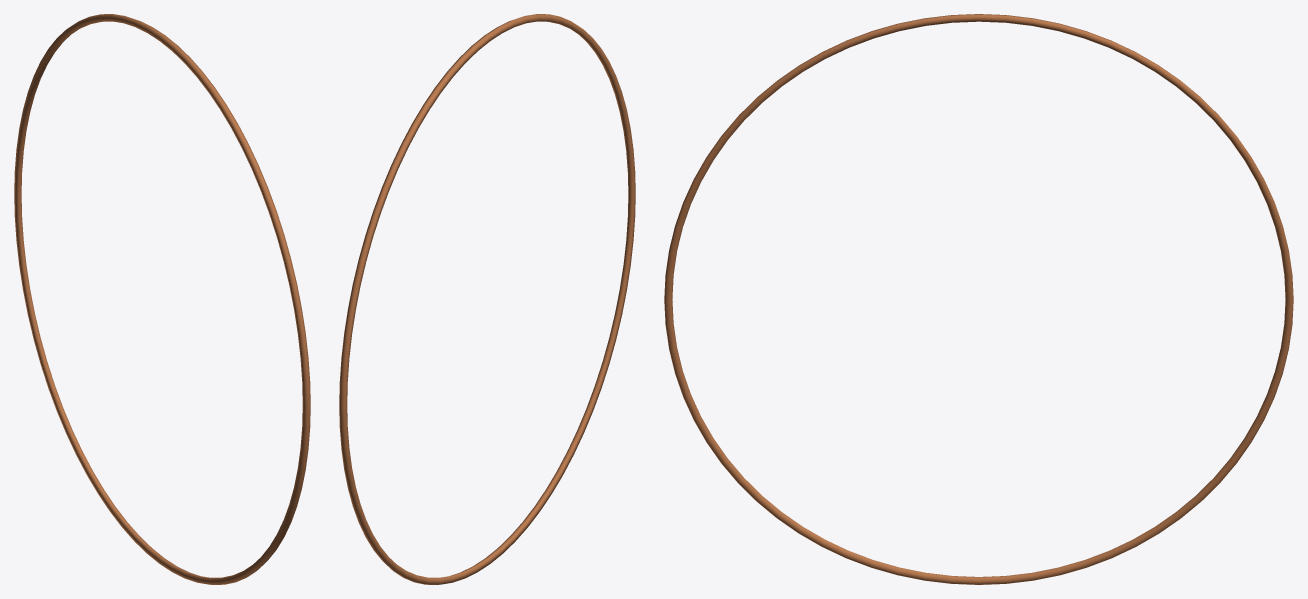
Rendered from rim-copper-right.glb.
3 views of the same model, side by side, from view 1: azimuth 30°, elevation 25°; view 2: azimuth 150°, elevation 25°; view 3: azimuth 270°, elevation 25° (orthographic). The views are drawn at different scales.
Visible parts, largest first — view 1: rim_copper_right_Roadster_Cosmetic_Copper_Anodized; view 2: rim_copper_right_Roadster_Cosmetic_Copper_Anodized; view 3: rim_copper_right_Roadster_Cosmetic_Copper_Anodized.
Boxes of the visible parts, x1,y1,x2,y2 form: rim_copper_right_Roadster_Cosmetic_Copper_Anodized: (14, 14, 310, 584); rim_copper_right_Roadster_Cosmetic_Copper_Anodized: (339, 14, 635, 584); rim_copper_right_Roadster_Cosmetic_Copper_Anodized: (664, 14, 1293, 584).
Bounding box in the file's own units: 0.0064 × 0.5844 × 0.5844.
